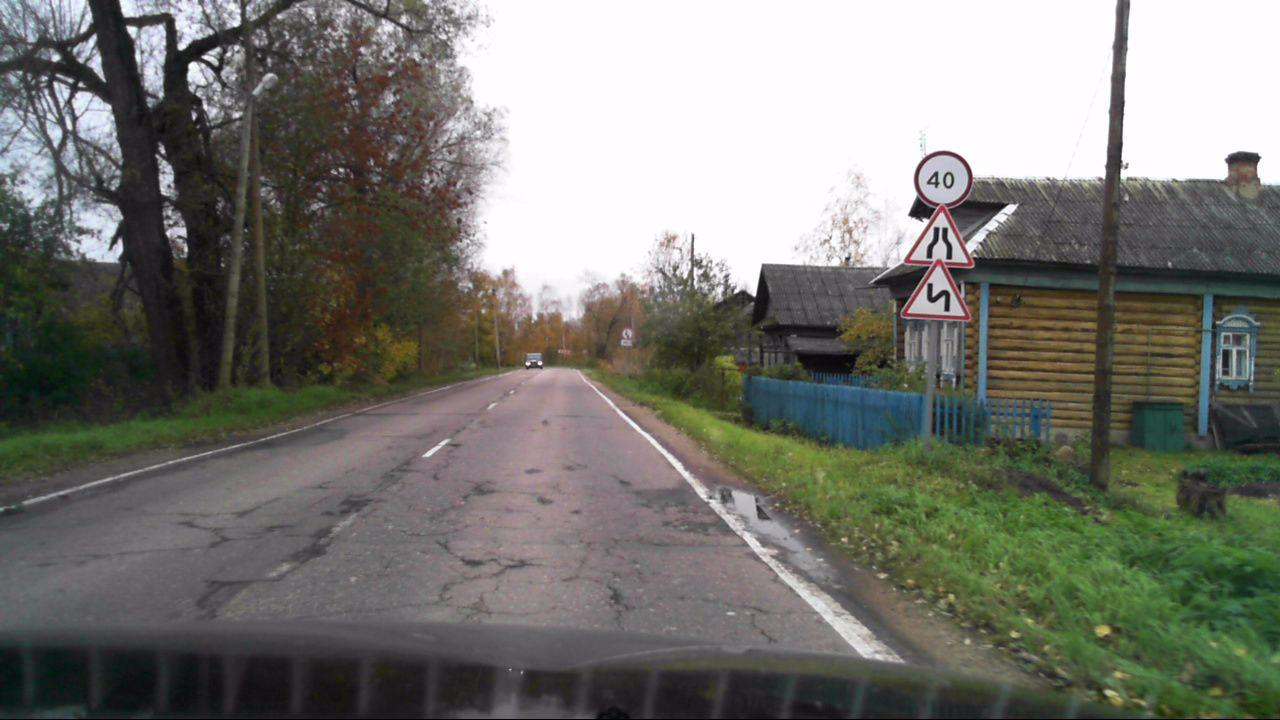1_12_2: (899, 259, 969, 320)
1_20_1: (901, 205, 978, 268)
2_6: (621, 328, 633, 340)
3_24: (914, 147, 974, 209)
8_1_1: (621, 340, 633, 346)
